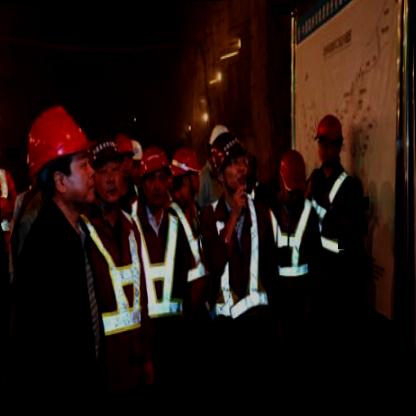helmet: (26, 104, 93, 215), (210, 130, 249, 202), (89, 136, 125, 206), (274, 149, 310, 212), (310, 110, 345, 170), (216, 135, 247, 200), (204, 124, 233, 185), (140, 145, 168, 206), (170, 148, 199, 200), (111, 130, 132, 182), (127, 138, 144, 190), (0, 118, 4, 163)
